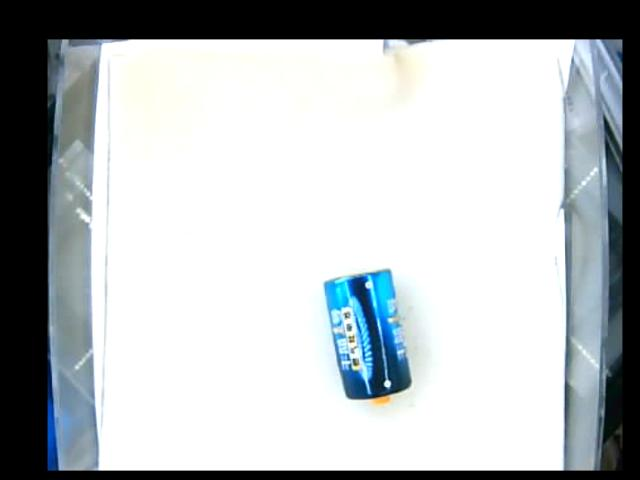Battery: (323, 266, 413, 407)
